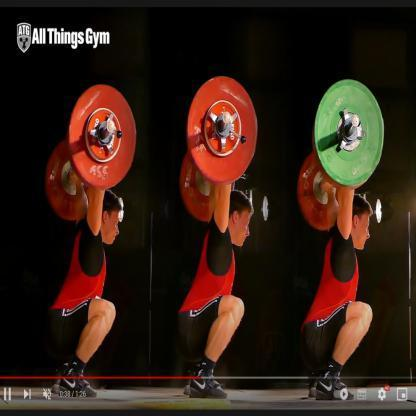barbell: (44, 82, 138, 222), (298, 78, 384, 231), (180, 74, 259, 225)
